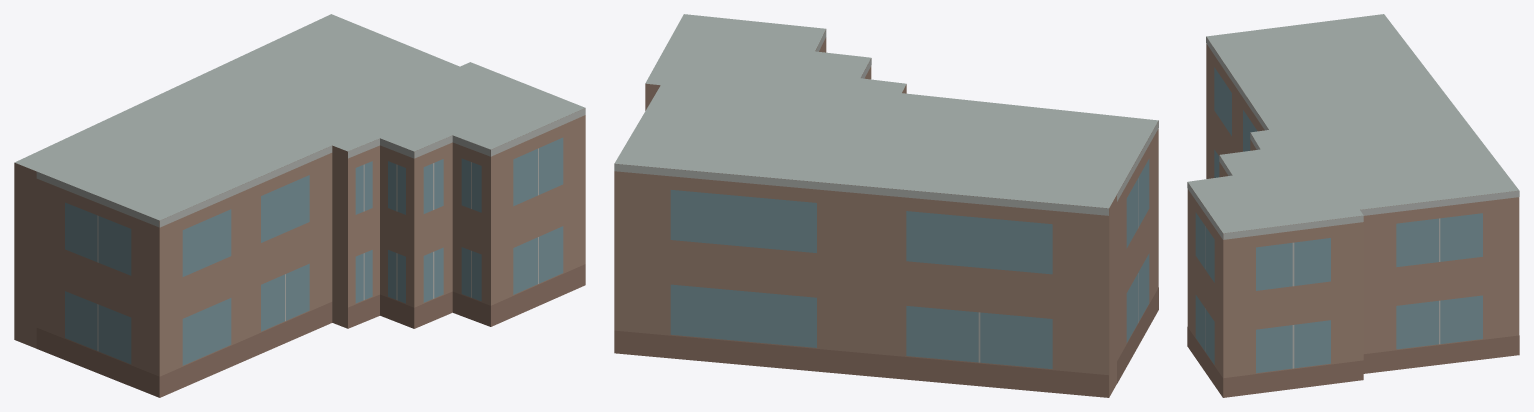
File: survey-upis-32663707.glb
3 renders of one model, left to right at view 1: azimuth 30°, elevation 25°; view 2: azimuth 150°, elevation 25°; view 3: azimuth 270°, elevation 25°, orthographic. The views are drawn at different scales.
Visible parts, largest first — view 1: survey-upis-32663707.tmp; view 2: survey-upis-32663707.tmp; view 3: survey-upis-32663707.tmp.
Part boxes in pixels (x1=…): survey-upis-32663707.tmp: x1=14, y1=14, x2=585, y2=397; survey-upis-32663707.tmp: x1=614, y1=14, x2=1158, y2=397; survey-upis-32663707.tmp: x1=1187, y1=14, x2=1519, y2=397.
Bounding box in the file's own units: 17.45 × 6.1 × 11.17.
